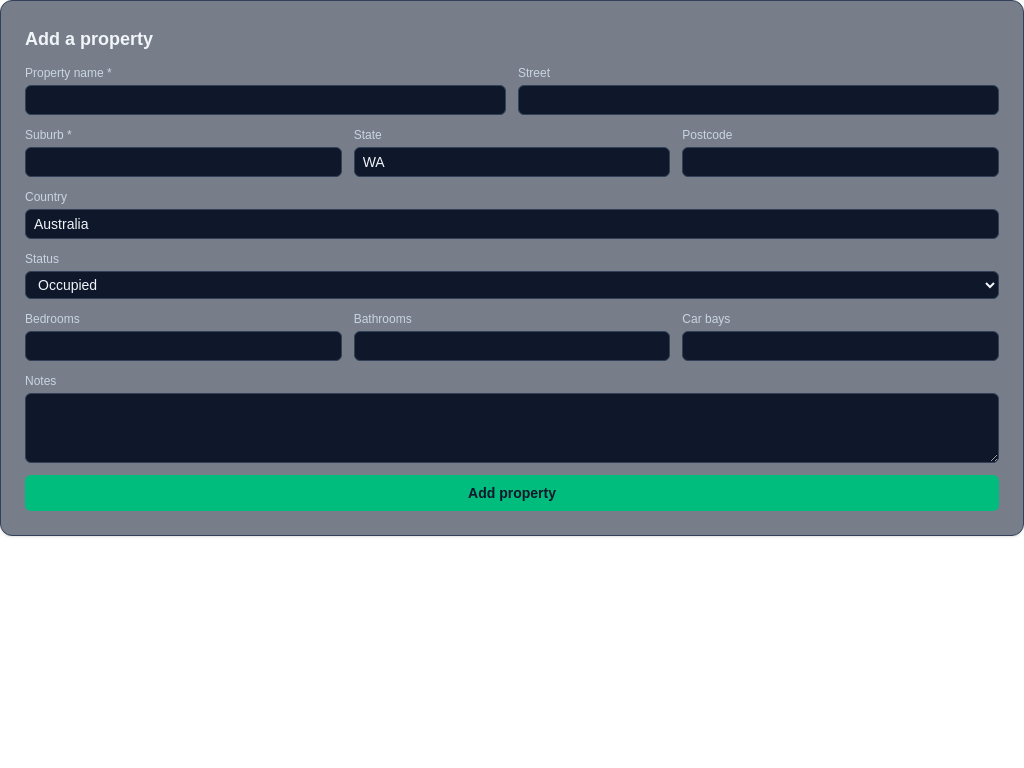
AddPropertyForm › validates that name and suburb are required
The image size is (1024, 768).
Click the button "Add property".
click(512, 493)  # box [25,475,999,511]
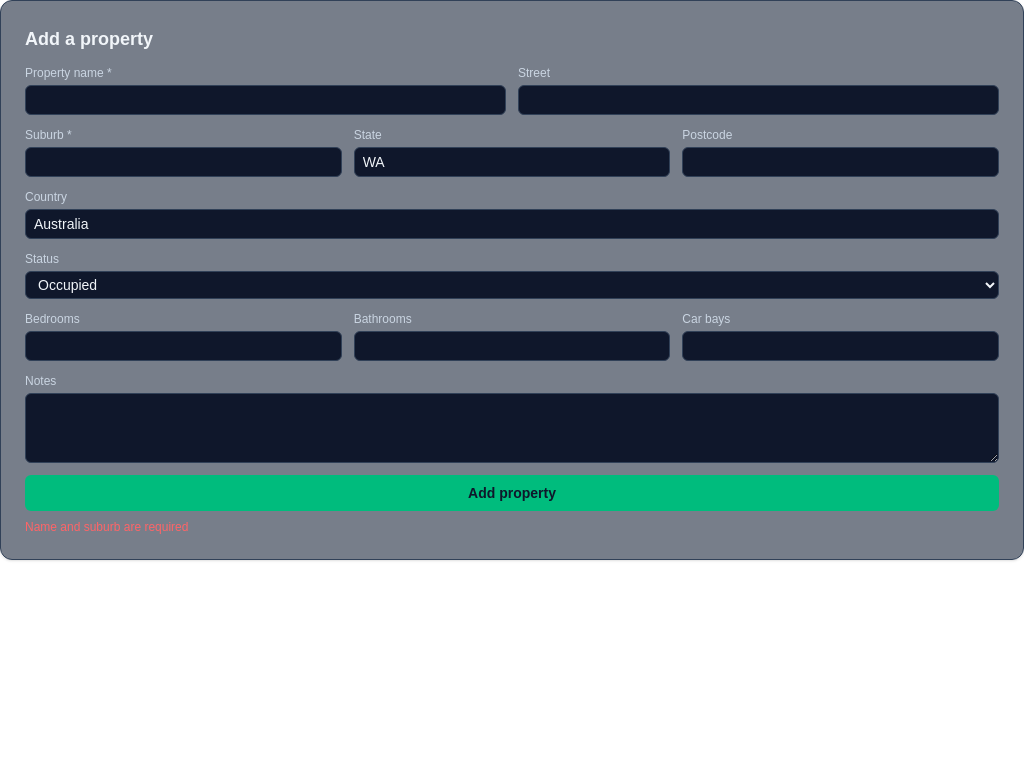
Now the text "Name and suburb are required" is shown, box [25,520,188,534]
